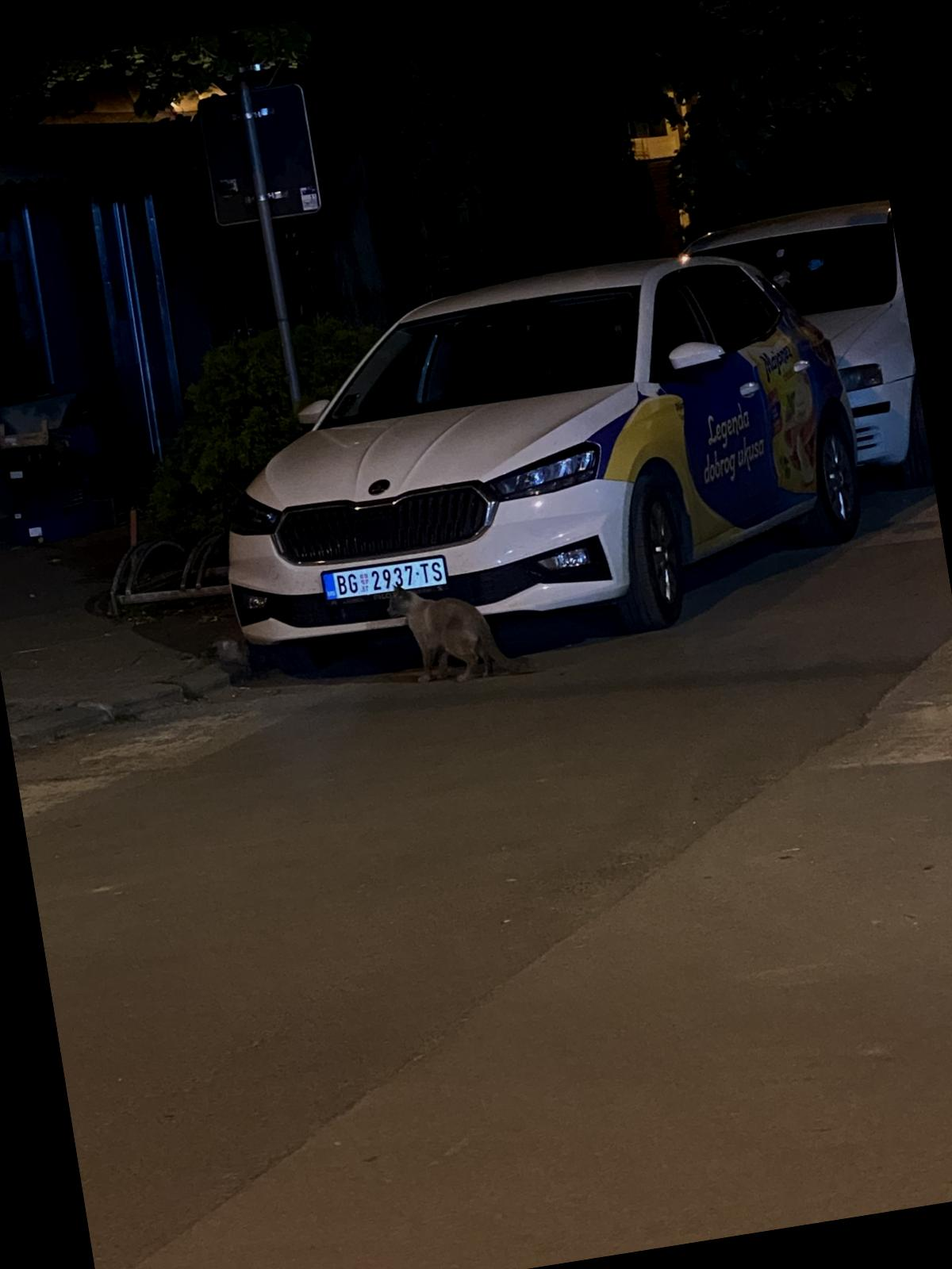macka: (382, 561, 542, 693)
